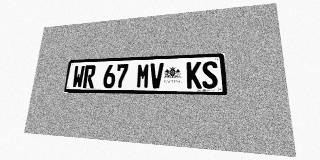6: (103, 64, 116, 88)
7: (115, 64, 129, 88)
K: (187, 62, 202, 89)
M: (136, 63, 150, 88)
R: (83, 65, 96, 88)
S: (202, 61, 218, 89)
V: (149, 63, 164, 88)
W: (72, 65, 85, 88)
